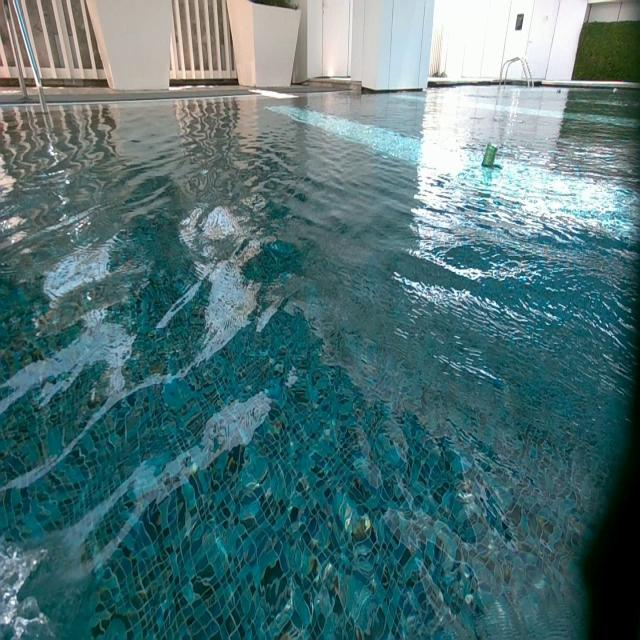Cans: (482, 141, 498, 166), (557, 89, 561, 93), (613, 89, 618, 92)
